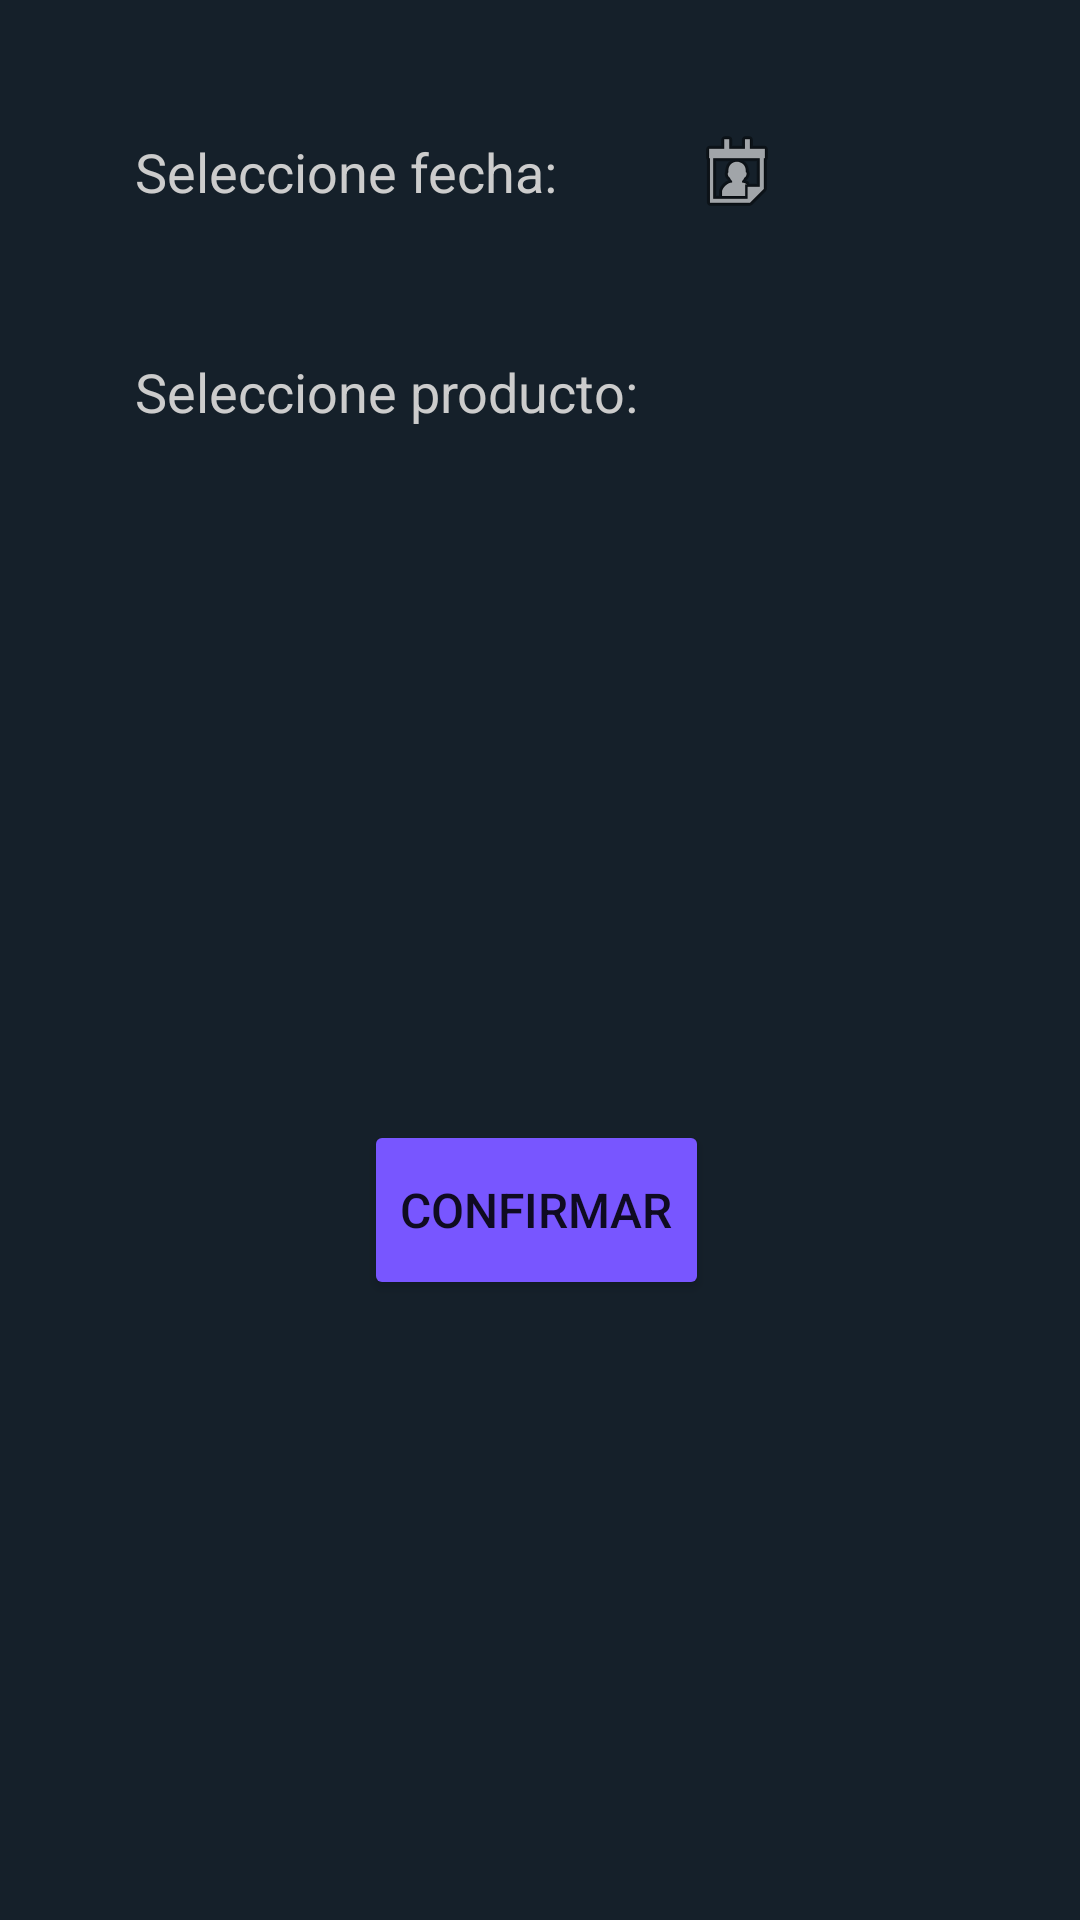

Icons on this 1080px×1920px Android screen, each with its box as [x1,y1,x2,y2]:
calendar: [706,136,768,206]
